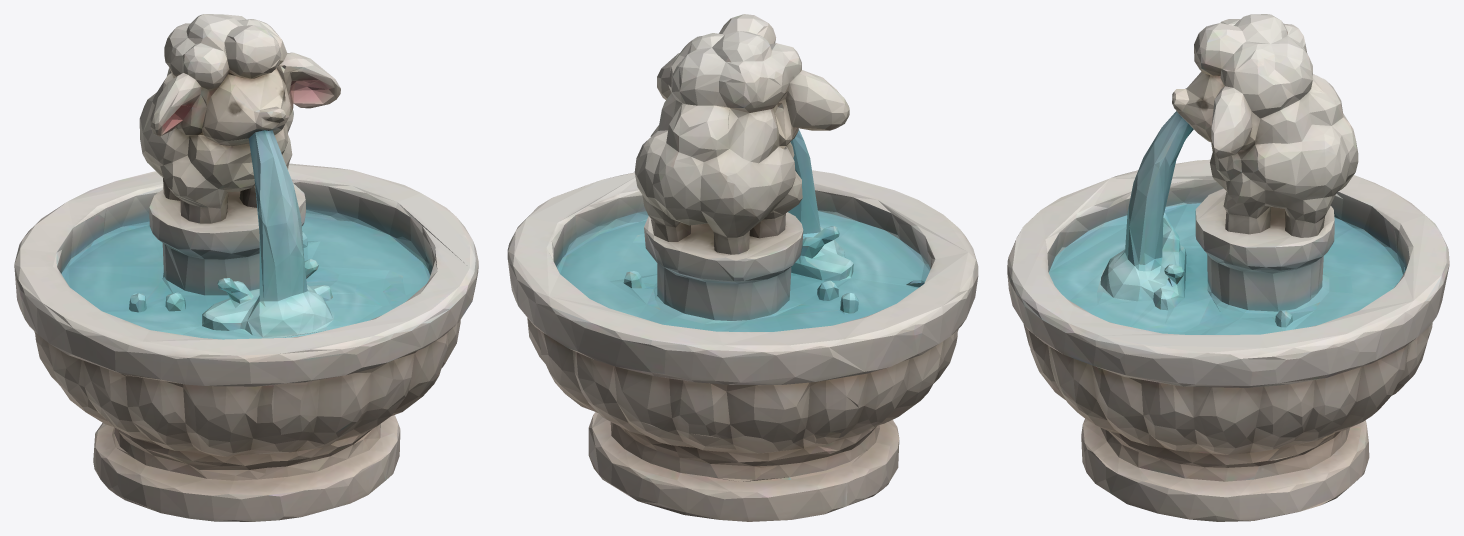
File: fountain.glb
The picture shows the model from 3 angles, left to right: view 1: azimuth 30°, elevation 25°; view 2: azimuth 150°, elevation 25°; view 3: azimuth 270°, elevation 25°; orthographic projection.
Parts seen in each view (by area): view 1: geometry_0; view 2: geometry_0; view 3: geometry_0.
Boxes of the visible parts, x1,y1,x2,y2 form: geometry_0: (14, 14, 478, 521); geometry_0: (507, 14, 978, 521); geometry_0: (1007, 14, 1449, 521).
Bounding box in the file's own units: 0.9777 × 0.9975 × 0.9266.
1 material, 1 textured.
